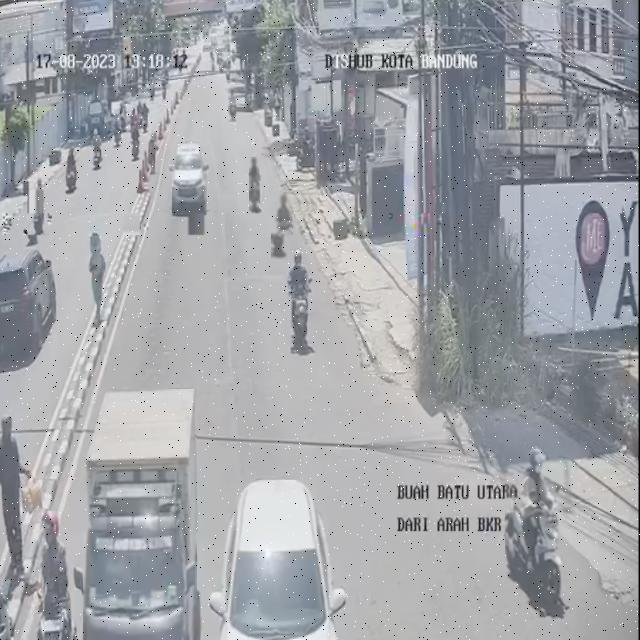cars: (219, 481, 338, 640), (173, 144, 206, 213)
motorcycle: (505, 450, 563, 614), (37, 512, 76, 639), (288, 253, 310, 353), (272, 193, 292, 260), (250, 157, 259, 211), (229, 89, 236, 122)
truck: (83, 389, 197, 639)
